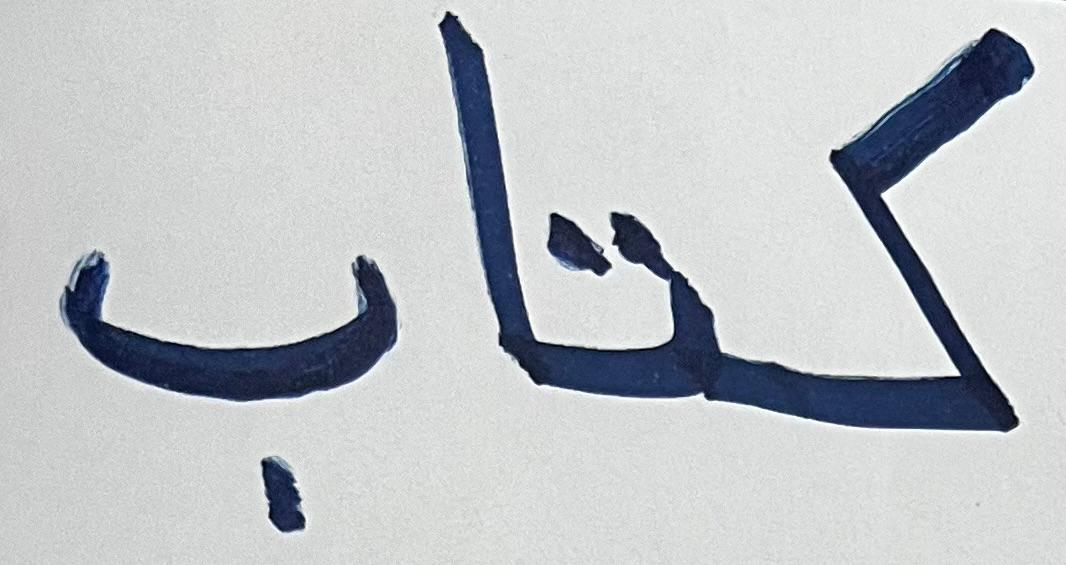alef: (421, 4, 533, 416)
beh: (39, 243, 408, 540)
kaf: (725, 23, 1037, 443)
teh: (538, 195, 718, 412)
